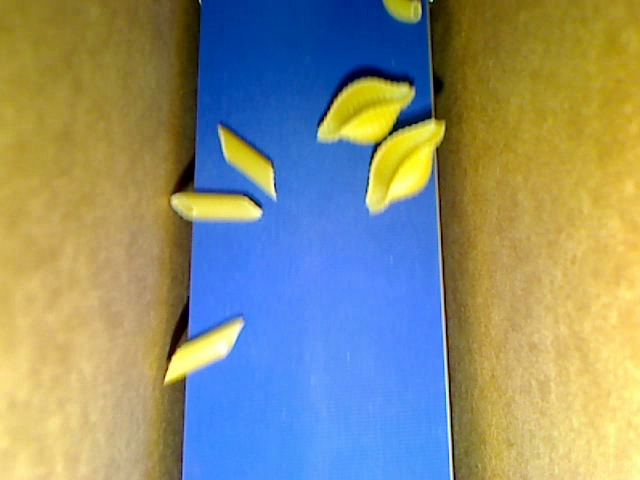elbow: (383, 1, 421, 23)
penne: (163, 315, 245, 385), (217, 124, 277, 197), (169, 191, 264, 222)
shell: (365, 117, 445, 215), (317, 77, 415, 147)
